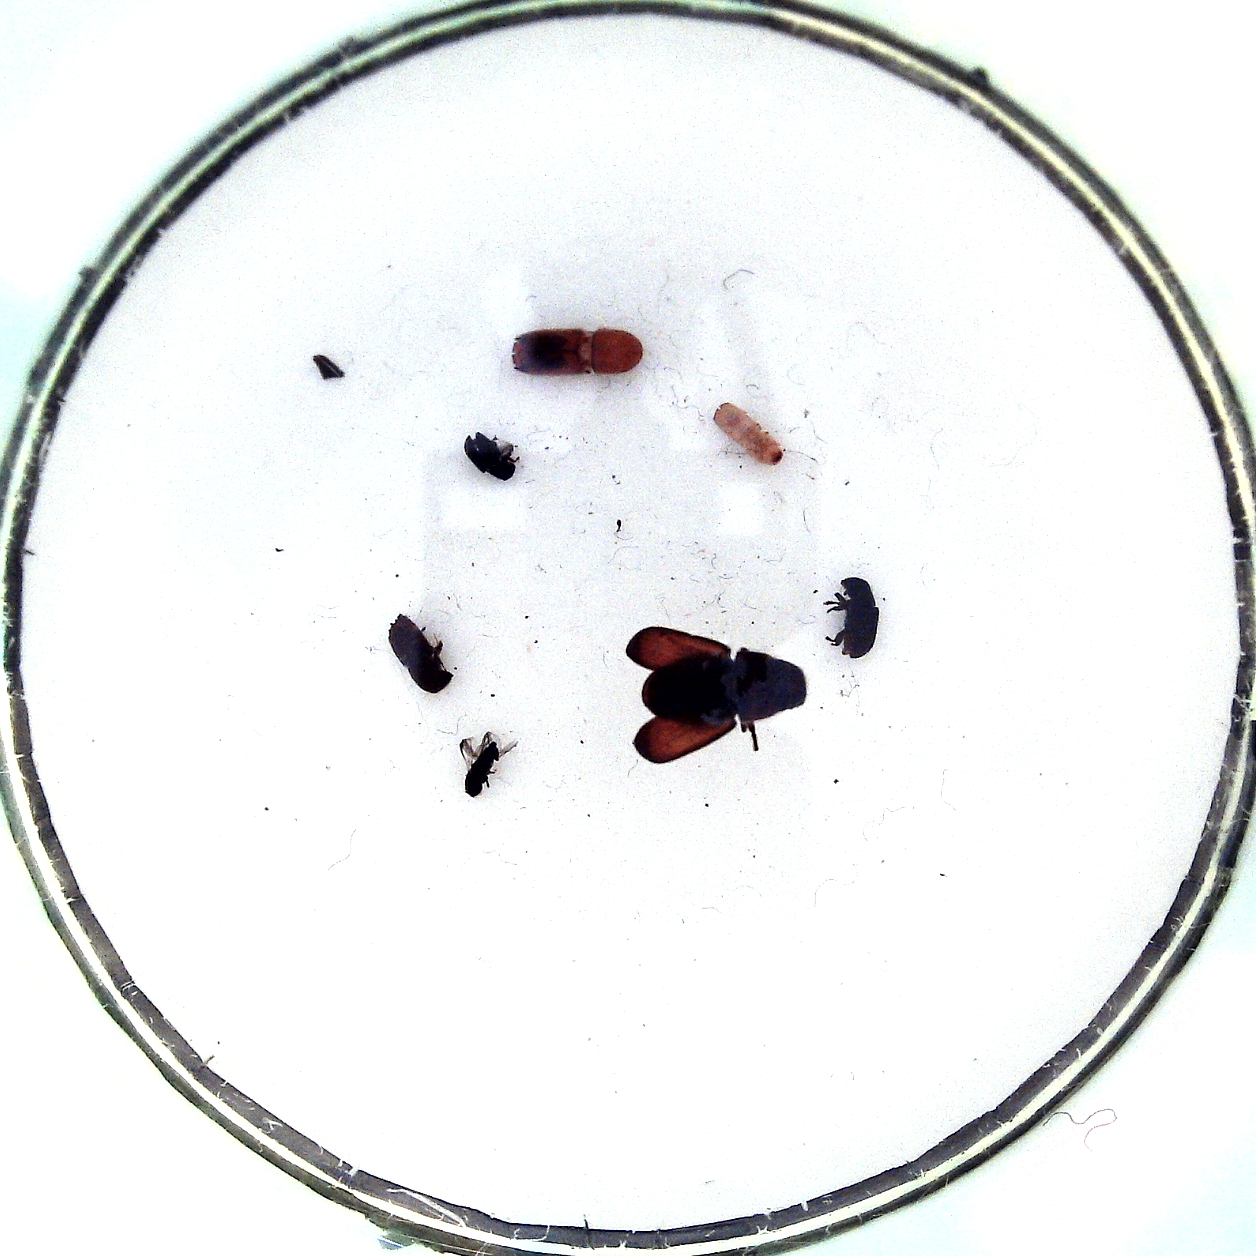Leconte: (641, 648, 807, 730)
acuminatus: (464, 741, 499, 798)
armandi: (841, 576, 878, 659)
coleoptera: (511, 328, 643, 376), (464, 432, 515, 481)
linnaeus: (386, 613, 454, 695), (714, 403, 783, 465)
